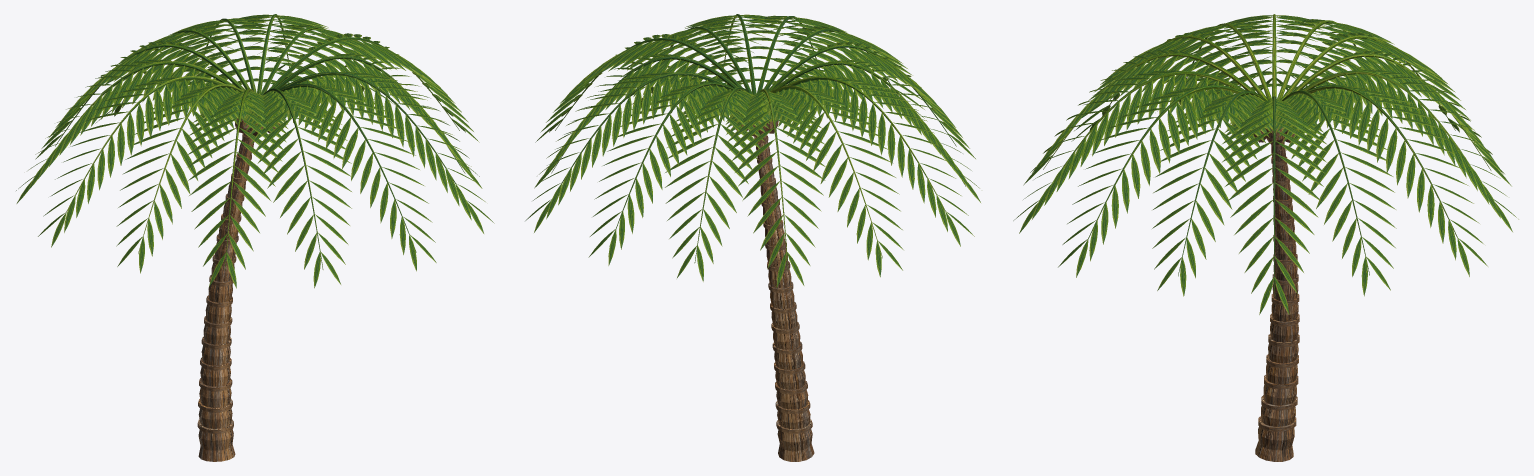
The model's file is JunglePalm.fbx.
3 renders of one model, left to right at view 1: azimuth 30°, elevation 25°; view 2: azimuth 150°, elevation 25°; view 3: azimuth 270°, elevation 25°, orthographic. The views are drawn at different scales.
Visible parts, largest first — view 1: JunglePalm_LOD0; view 2: JunglePalm_LOD0; view 3: JunglePalm_LOD0.
Part boxes in pixels (x1=…): JunglePalm_LOD0: x1=16, y1=14, x2=494, y2=461; JunglePalm_LOD0: x1=525, y1=14, x2=980, y2=461; JunglePalm_LOD0: x1=1013, y1=14, x2=1518, y2=461.
Size of what is drawn, in the model's own units: 8.47 by 7.32 by 8.14.
